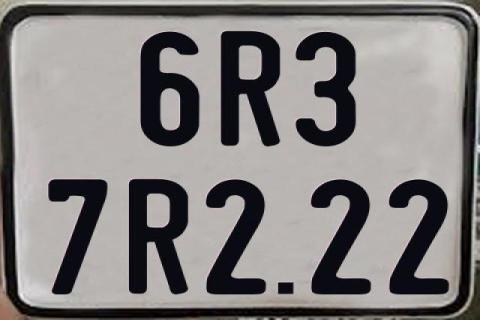0: (205, 179, 270, 295), (388, 179, 452, 295), (48, 178, 110, 294), (310, 177, 370, 295), (137, 31, 198, 147), (294, 31, 354, 145)
R: (221, 30, 286, 146), (126, 177, 188, 292)
